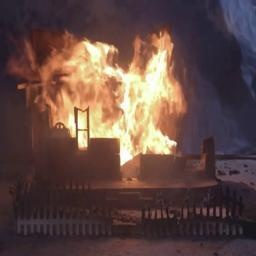fire: (25, 26, 183, 148)
